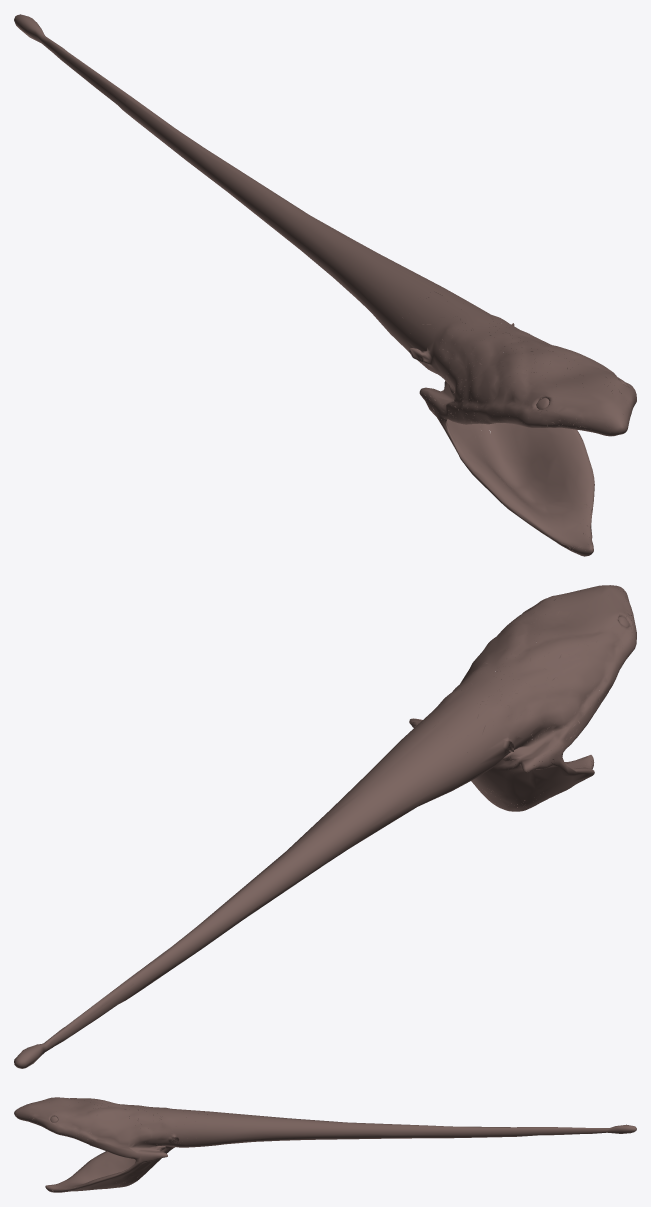
The model's file is gulper-eel.glb.
3 renders of one model, top to bottom at view 1: azimuth 30°, elevation 25°; view 2: azimuth 150°, elevation 25°; view 3: azimuth 270°, elevation 25°, orthographic. The views are drawn at different scales.
Parts seen in each view (by area): view 1: Object_3, Object_4, Object_5; view 2: Object_3, Object_4, Object_5; view 3: Object_3, Object_4, Object_5.
Part boxes in pixels (x1,y1,x2,y2): Object_3: (14, 14, 633, 549); Object_4: (389, 285, 636, 556); Object_5: (49, 43, 620, 555); Object_3: (14, 585, 634, 1068); Object_4: (411, 586, 636, 811); Object_5: (53, 587, 635, 1040); Object_3: (14, 1097, 636, 1192); Object_4: (14, 1099, 213, 1192); Object_5: (15, 1097, 209, 1185).
Bounding box in the file's own units: 0.1084 × 0.1415 × 0.9048.
